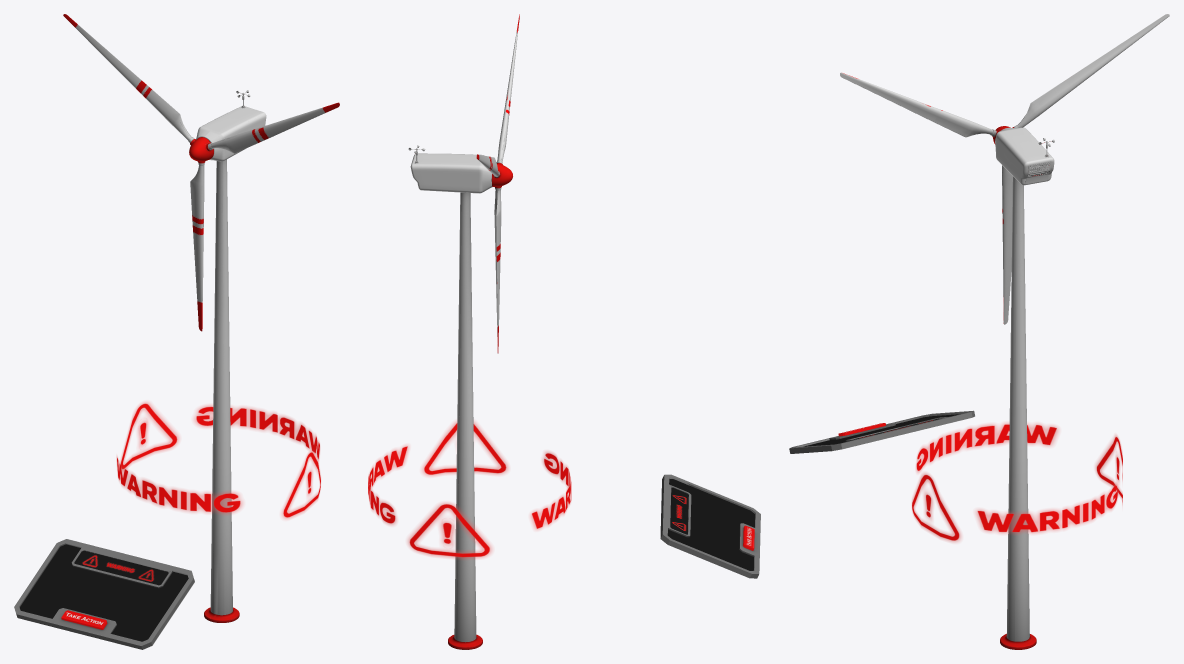
The model's file is windmill_1.glb.
3 views of the same model, side by side, from view 1: azimuth 30°, elevation 25°; view 2: azimuth 150°, elevation 25°; view 3: azimuth 270°, elevation 25° (orthographic). The views are drawn at different scales.
Parts seen in each view (by area): view 1: Cube, Windmill_Main_Pole, Warning, Blades; view 2: Windmill_Main_Pole, Cube, Warning, Blades; view 3: Windmill_Main_Pole, Warning, Blades, Cube.
Boxes of the visible parts, x1,y1,x2,y2 form: Cube: [14, 539, 194, 649]; Windmill_Main_Pole: [196, 105, 266, 622]; Warning: [116, 402, 320, 519]; Blades: [63, 14, 339, 331]; Windmill_Main_Pole: [410, 153, 492, 649]; Cube: [660, 474, 760, 578]; Warning: [368, 421, 571, 559]; Blades: [476, 14, 519, 353]; Windmill_Main_Pole: [995, 127, 1054, 649]; Warning: [912, 422, 1122, 542]; Blades: [840, 14, 1169, 324]; Cube: [789, 410, 974, 453].
Size of the model in its own units: 2.47 by 3.99 by 2.35.
Materials: 4 (4 with a texture image).
